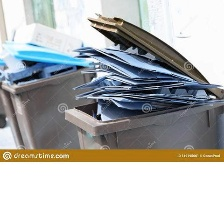book: (66, 42, 223, 125)
